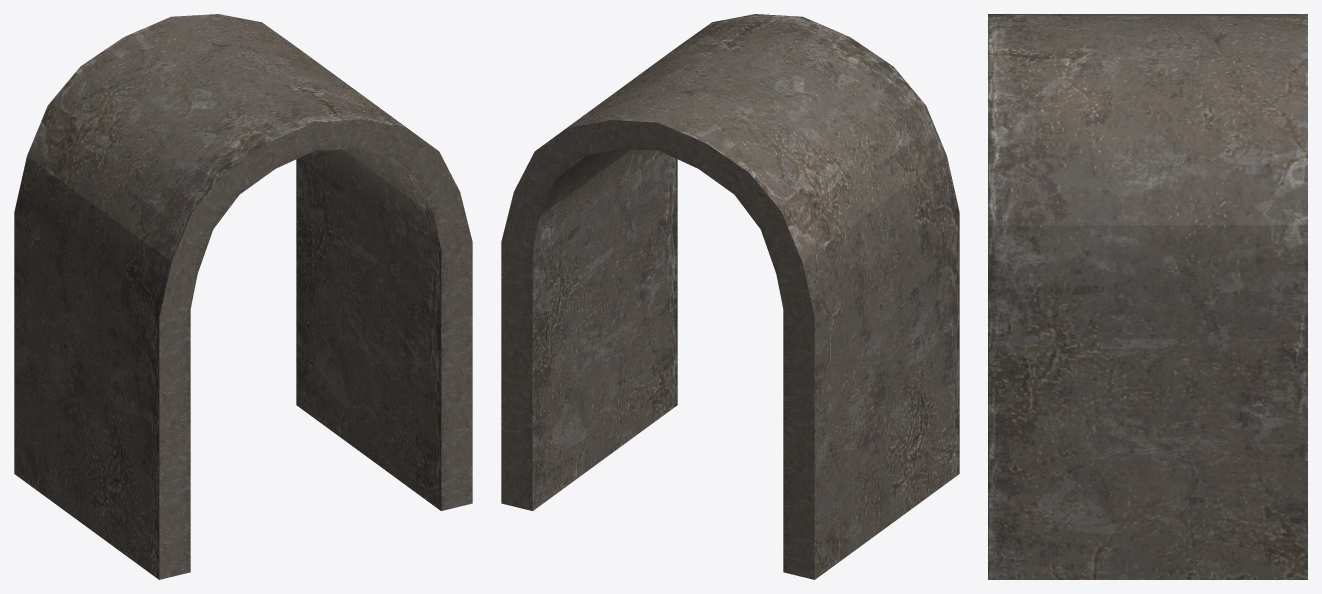
Rendered from Archway.fbx.
The picture shows the model from 3 angles, left to right: view 1: azimuth 30°, elevation 25°; view 2: azimuth 150°, elevation 25°; view 3: azimuth 270°, elevation 25°; orthographic projection. The views are drawn at different scales.
Parts seen in each view (by area): view 1: Trim_StoneArchway_4x4x450; view 2: Trim_StoneArchway_4x4x450; view 3: Trim_StoneArchway_4x4x450.
Part boxes in pixels (<box>): Trim_StoneArchway_4x4x450: <box>14,14,472,579</box>; Trim_StoneArchway_4x4x450: <box>501,14,959,579</box>; Trim_StoneArchway_4x4x450: <box>988,14,1307,579</box>.
Size of the model in its own units: 500 by 639 by 400.
